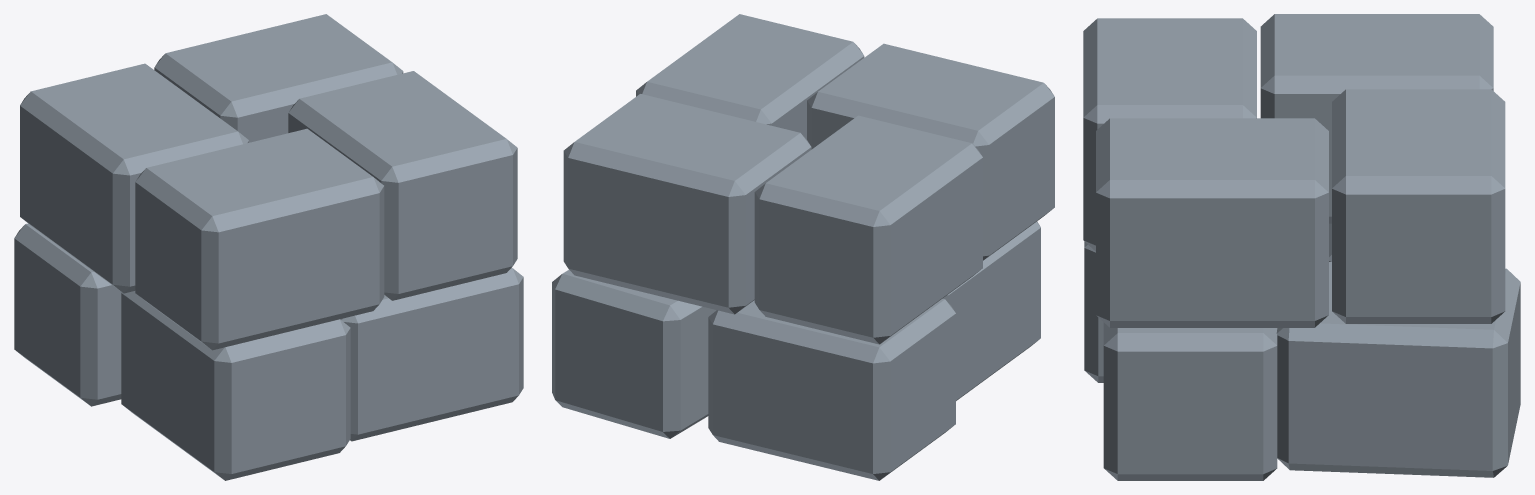
The model's file is ice_scandi_construction_bricks_04.fbx.
3 renders of one model, left to right at view 1: azimuth 30°, elevation 25°; view 2: azimuth 150°, elevation 25°; view 3: azimuth 270°, elevation 25°, orthographic. The views are drawn at different scales.
Visible parts, largest first — view 1: scandi_construction_bricks_04; view 2: scandi_construction_bricks_04; view 3: scandi_construction_bricks_04.
Boxes of the visible parts, x1,y1,x2,y2 form: scandi_construction_bricks_04: (14,14,523,480); scandi_construction_bricks_04: (552,14,1054,480); scandi_construction_bricks_04: (1083,14,1520,480).
Size of the model in its own units: 1.56 by 1.17 by 1.56.
Materials: 1 (1 with a texture image).
